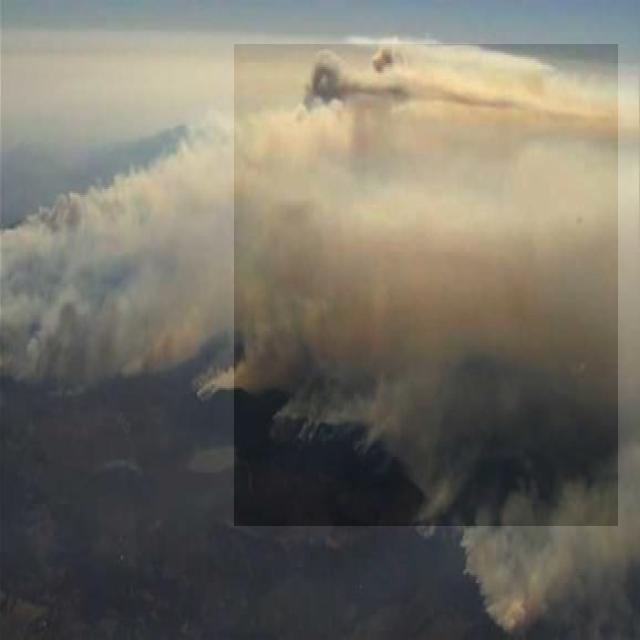Smoke: (234, 44, 618, 526)
